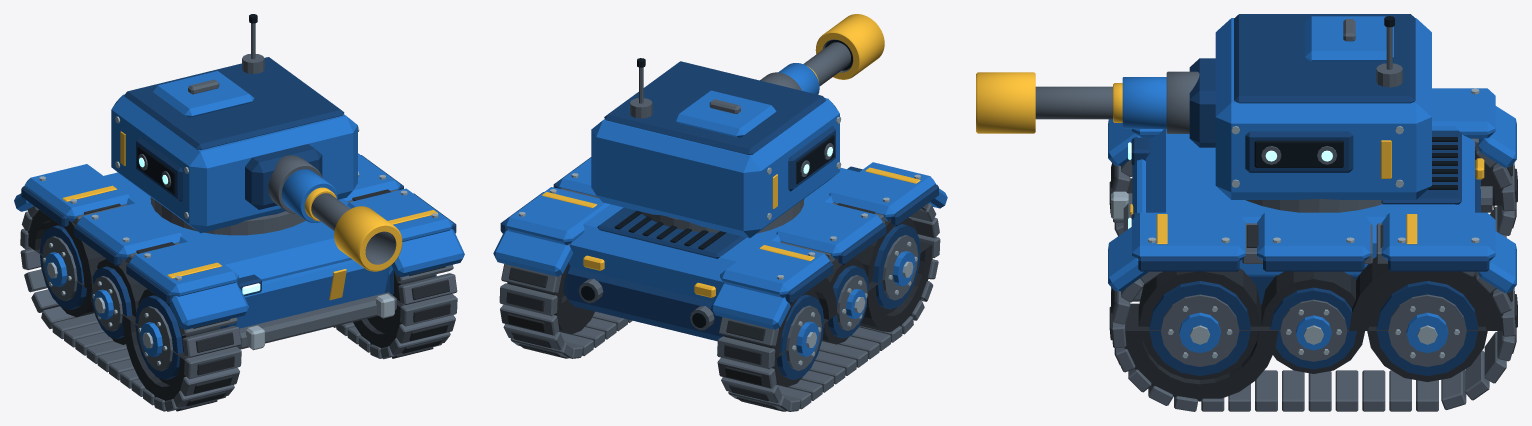
File: CobaltScout_game.glb
3 renders of one model, left to right at view 1: azimuth 30°, elevation 25°; view 2: azimuth 150°, elevation 25°; view 3: azimuth 270°, elevation 25°, orthographic. The views are drawn at different scales.
Visible parts, largest first — view 1: Hull, Turret, Track_L, Gun, Track_R, Wheel_L_1, Wheel_L_3, Wheel_L_2, Wheel_R_1; view 2: Hull, Turret, Track_L, Track_R, Gun, Wheel_L_1, Wheel_L_3, Wheel_L_2, Wheel_R_3; view 3: Hull, Turret, Track_R, Gun, Wheel_R_1, Wheel_R_3, Wheel_R_2, Track_L.
Part boxes in pixels (box(x1,y1,x2,y2)): Hull: box(14, 153, 464, 350); Turret: box(111, 14, 359, 233); Track_L: box(20, 203, 241, 411); Gun: box(245, 144, 402, 271); Track_R: box(333, 189, 457, 359); Wheel_L_1: box(135, 289, 220, 384); Wheel_L_3: box(39, 220, 94, 317); Wheel_L_2: box(91, 259, 146, 344); Wheel_R_1: box(367, 271, 436, 332); Hull: box(493, 157, 947, 341); Turret: box(591, 58, 841, 238); Track_L: box(717, 202, 940, 411); Track_R: box(499, 188, 632, 358); Gun: box(760, 14, 884, 94); Wheel_L_1: box(854, 217, 920, 314); Wheel_L_3: box(772, 289, 824, 387); Wheel_L_2: box(822, 258, 869, 344); Wheel_R_3: box(554, 286, 594, 334); Hull: box(1108, 88, 1516, 305); Turret: box(1215, 14, 1431, 199); Track_R: box(1109, 223, 1517, 411); Gun: box(976, 58, 1215, 147); Wheel_R_1: box(1138, 268, 1261, 379); Wheel_R_3: box(1367, 277, 1487, 381); Wheel_R_2: box(1261, 271, 1364, 373); Track_L: box(1109, 138, 1517, 237).
Size of the model in its own units: 3.57 by 3.41 by 4.86.
